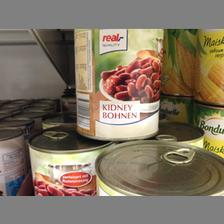Bohnen: (72, 27, 162, 139)
